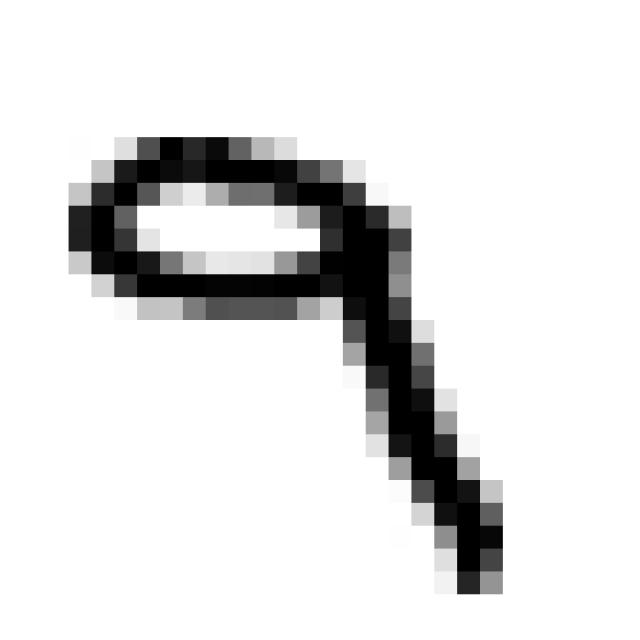9 -nine-: (45, 114, 522, 606)
